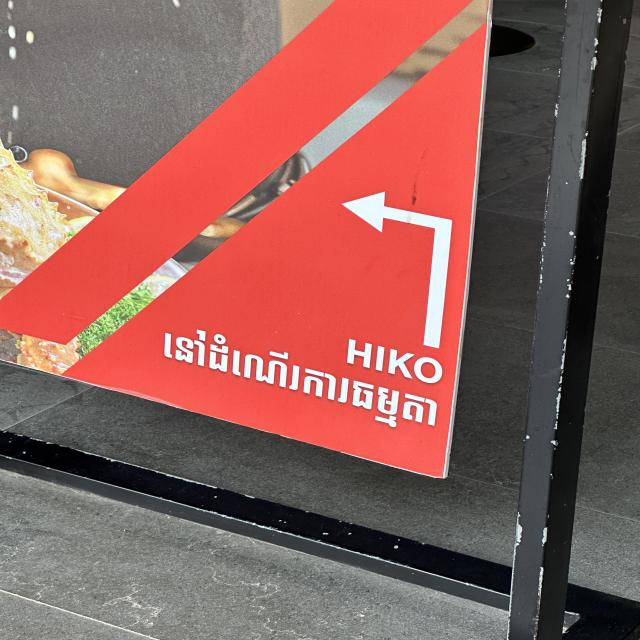Yolov11_80vkh: (145, 313, 443, 448)
